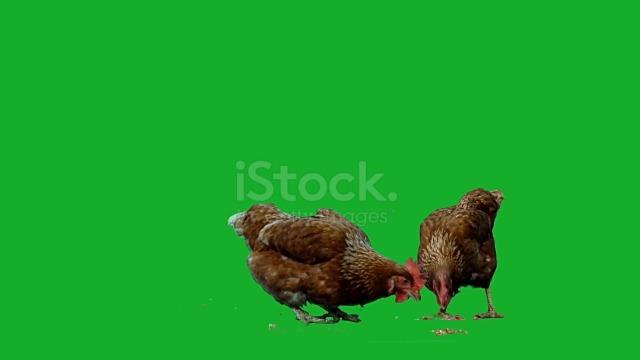Normal: (229, 199, 421, 328), (426, 176, 519, 325)
